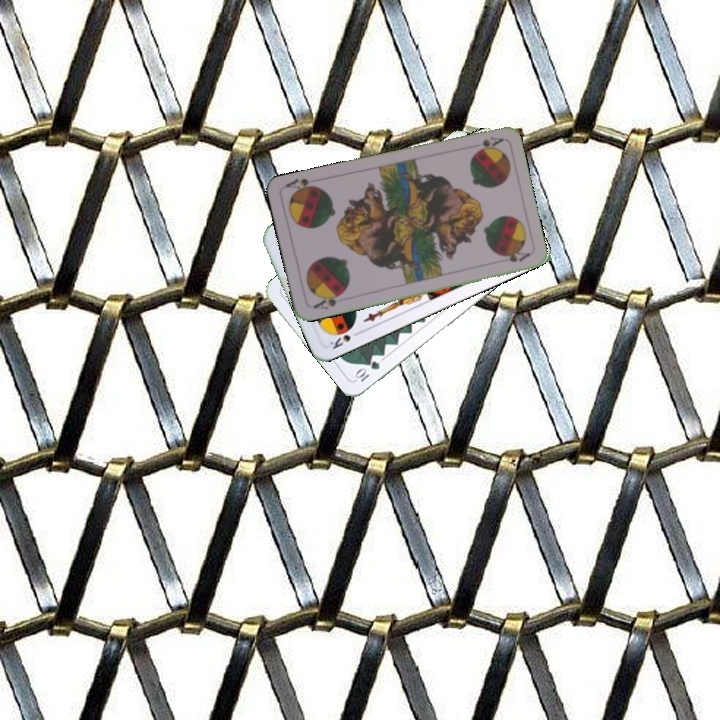G10: (351, 357, 383, 384)
SA: (465, 132, 505, 155), (309, 288, 346, 312)
SK: (325, 327, 364, 352)
